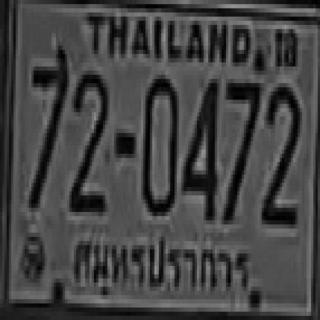N00: (141, 73, 177, 210)
N02: (70, 64, 108, 210), (261, 81, 299, 222)
N04: (181, 75, 217, 216)
N07: (27, 44, 67, 206), (222, 77, 260, 218)
P57: (70, 227, 252, 302)
